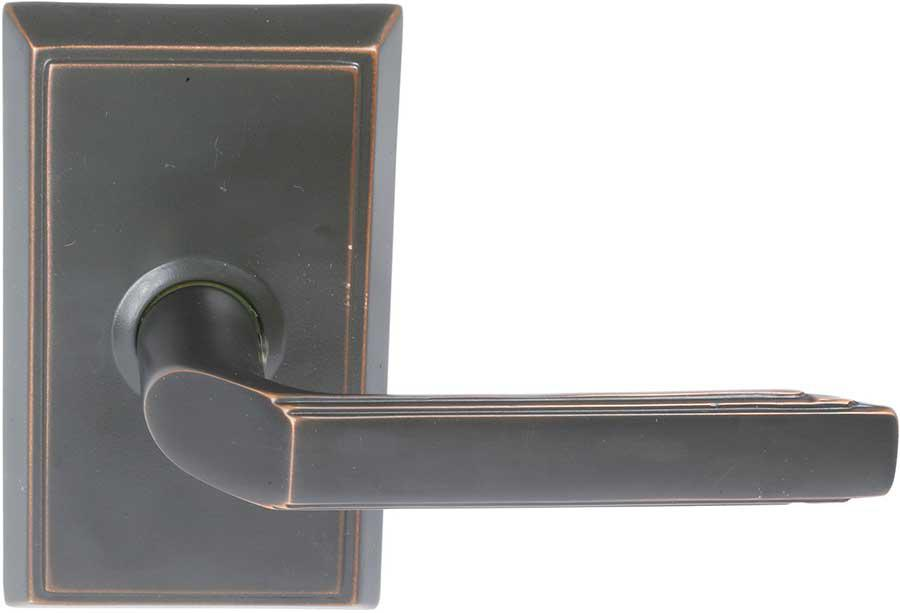doorhandle: (97, 253, 900, 557)
